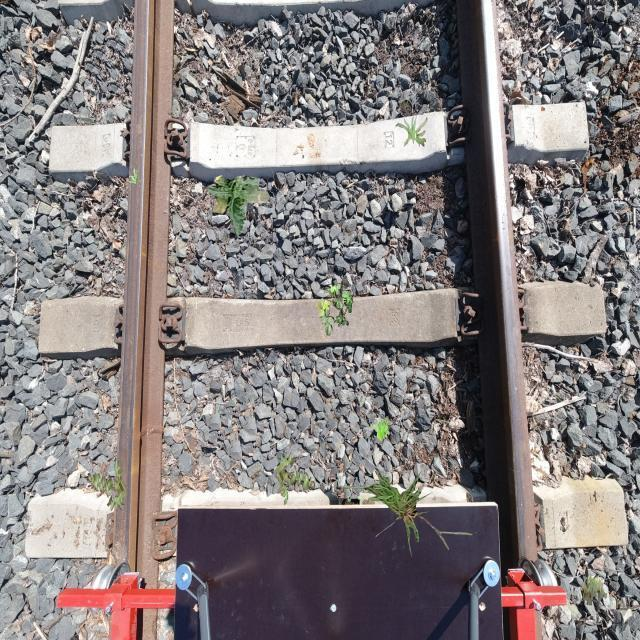Plant: (329, 469, 472, 559), (207, 175, 270, 237), (274, 452, 316, 506), (87, 458, 128, 512), (316, 281, 354, 336), (395, 113, 428, 148), (582, 574, 608, 606), (370, 416, 390, 441), (127, 168, 141, 183)
